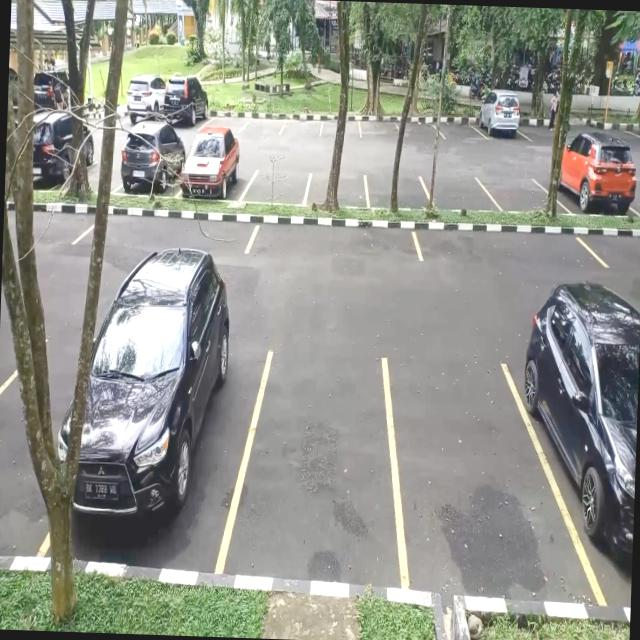car: (71, 274, 253, 568), (514, 294, 640, 603), (559, 146, 636, 218), (119, 128, 182, 200), (180, 134, 248, 200), (479, 99, 524, 142)
free: (232, 348, 398, 580), (382, 356, 532, 594), (417, 220, 598, 268), (251, 216, 422, 260), (246, 167, 312, 204), (428, 174, 491, 212), (366, 172, 428, 210), (305, 171, 368, 208), (490, 176, 551, 214), (588, 226, 640, 267), (440, 113, 480, 143), (359, 114, 403, 140), (402, 115, 441, 144), (282, 110, 322, 138), (322, 112, 362, 140), (244, 110, 284, 135)
